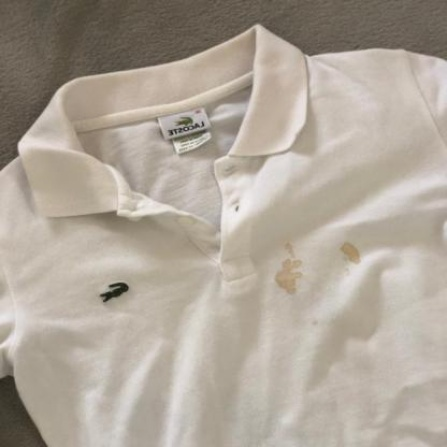coffee: (275, 258, 300, 294), (343, 243, 361, 263)
